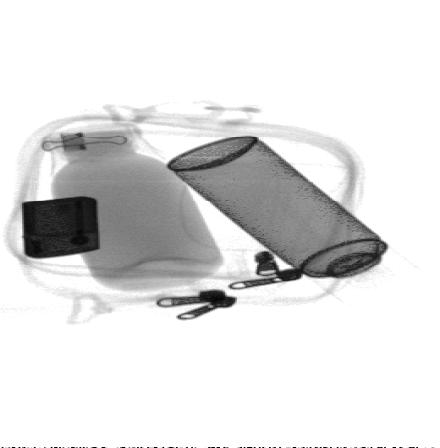Lighter: (24, 196, 100, 260)
Sprayer: (164, 136, 425, 306)
